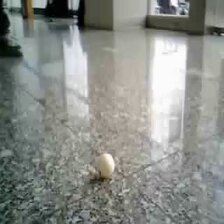w: (97, 154, 114, 175)
